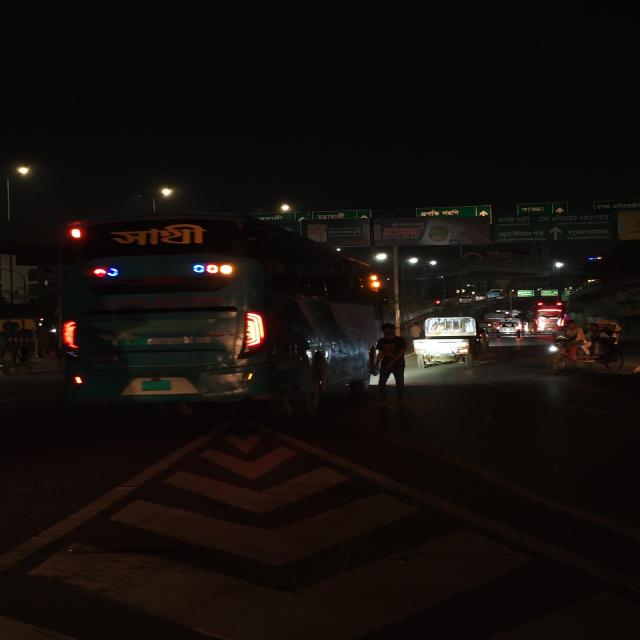bus: (52, 208, 381, 414), (528, 298, 566, 334)
car: (492, 320, 524, 338)
pedestrian: (362, 321, 410, 390)
pickup_van: (412, 313, 488, 370)
rickshaw: (544, 320, 628, 376)
